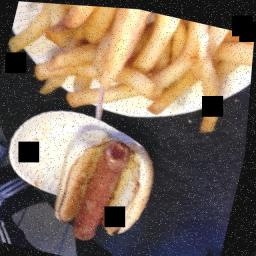hotdog: (71, 149, 120, 242), (92, 129, 132, 203)
